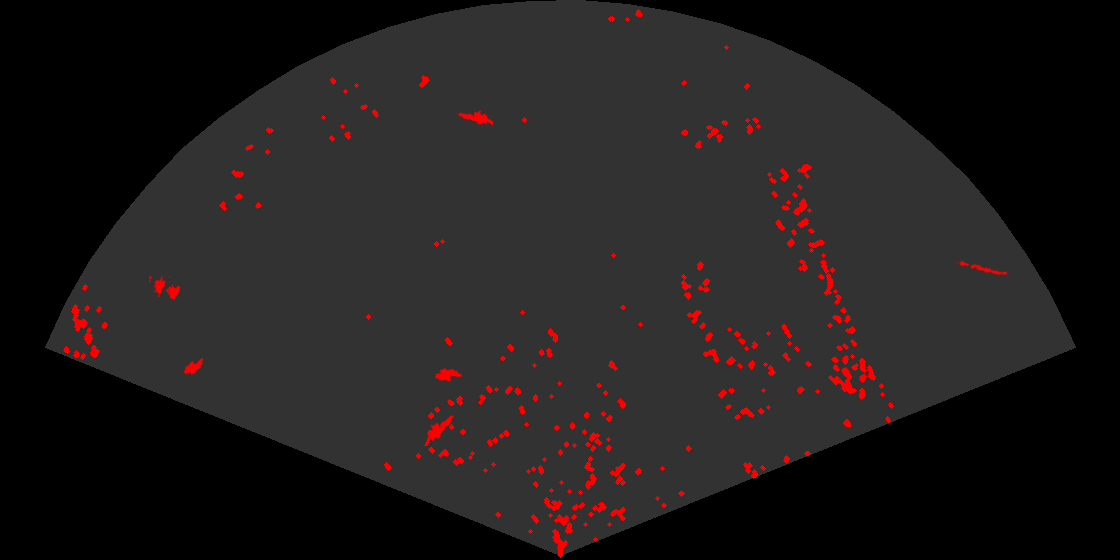AUV: (433, 367, 464, 383), (182, 357, 205, 376)
cage: (149, 276, 182, 301)
chain: (956, 259, 1009, 277)
frogman: (423, 408, 456, 446), (456, 109, 493, 128)
